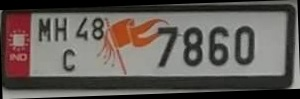character: (155, 24, 178, 67), (208, 25, 231, 67), (233, 24, 256, 64), (182, 26, 203, 67), (36, 16, 53, 43), (53, 15, 68, 42), (75, 16, 90, 41), (61, 47, 76, 72), (91, 16, 104, 40)
